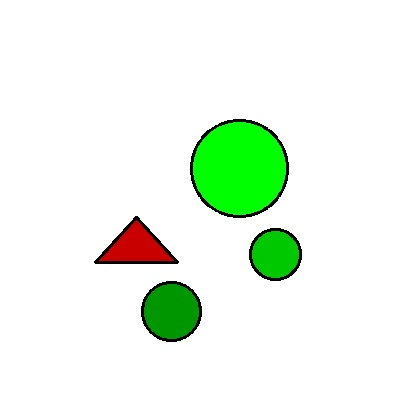circle: (184, 120, 295, 216), (142, 262, 200, 360), (250, 223, 300, 286)
triangle: (95, 217, 177, 262)
